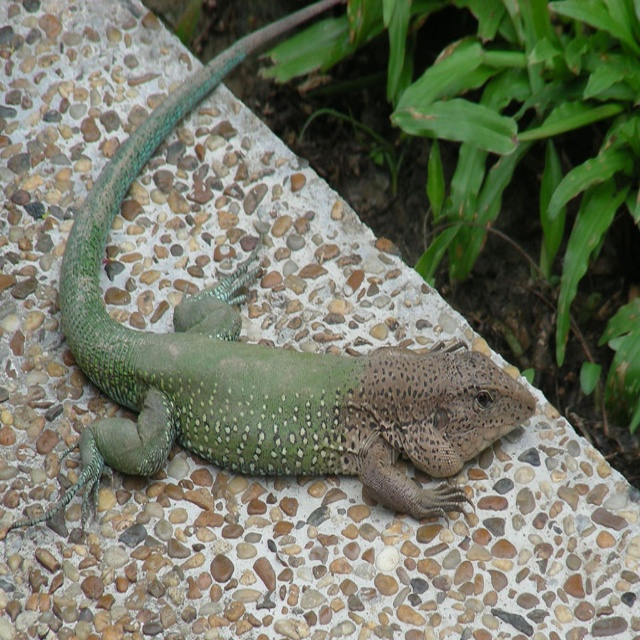Lizard: (4, 0, 536, 540)
